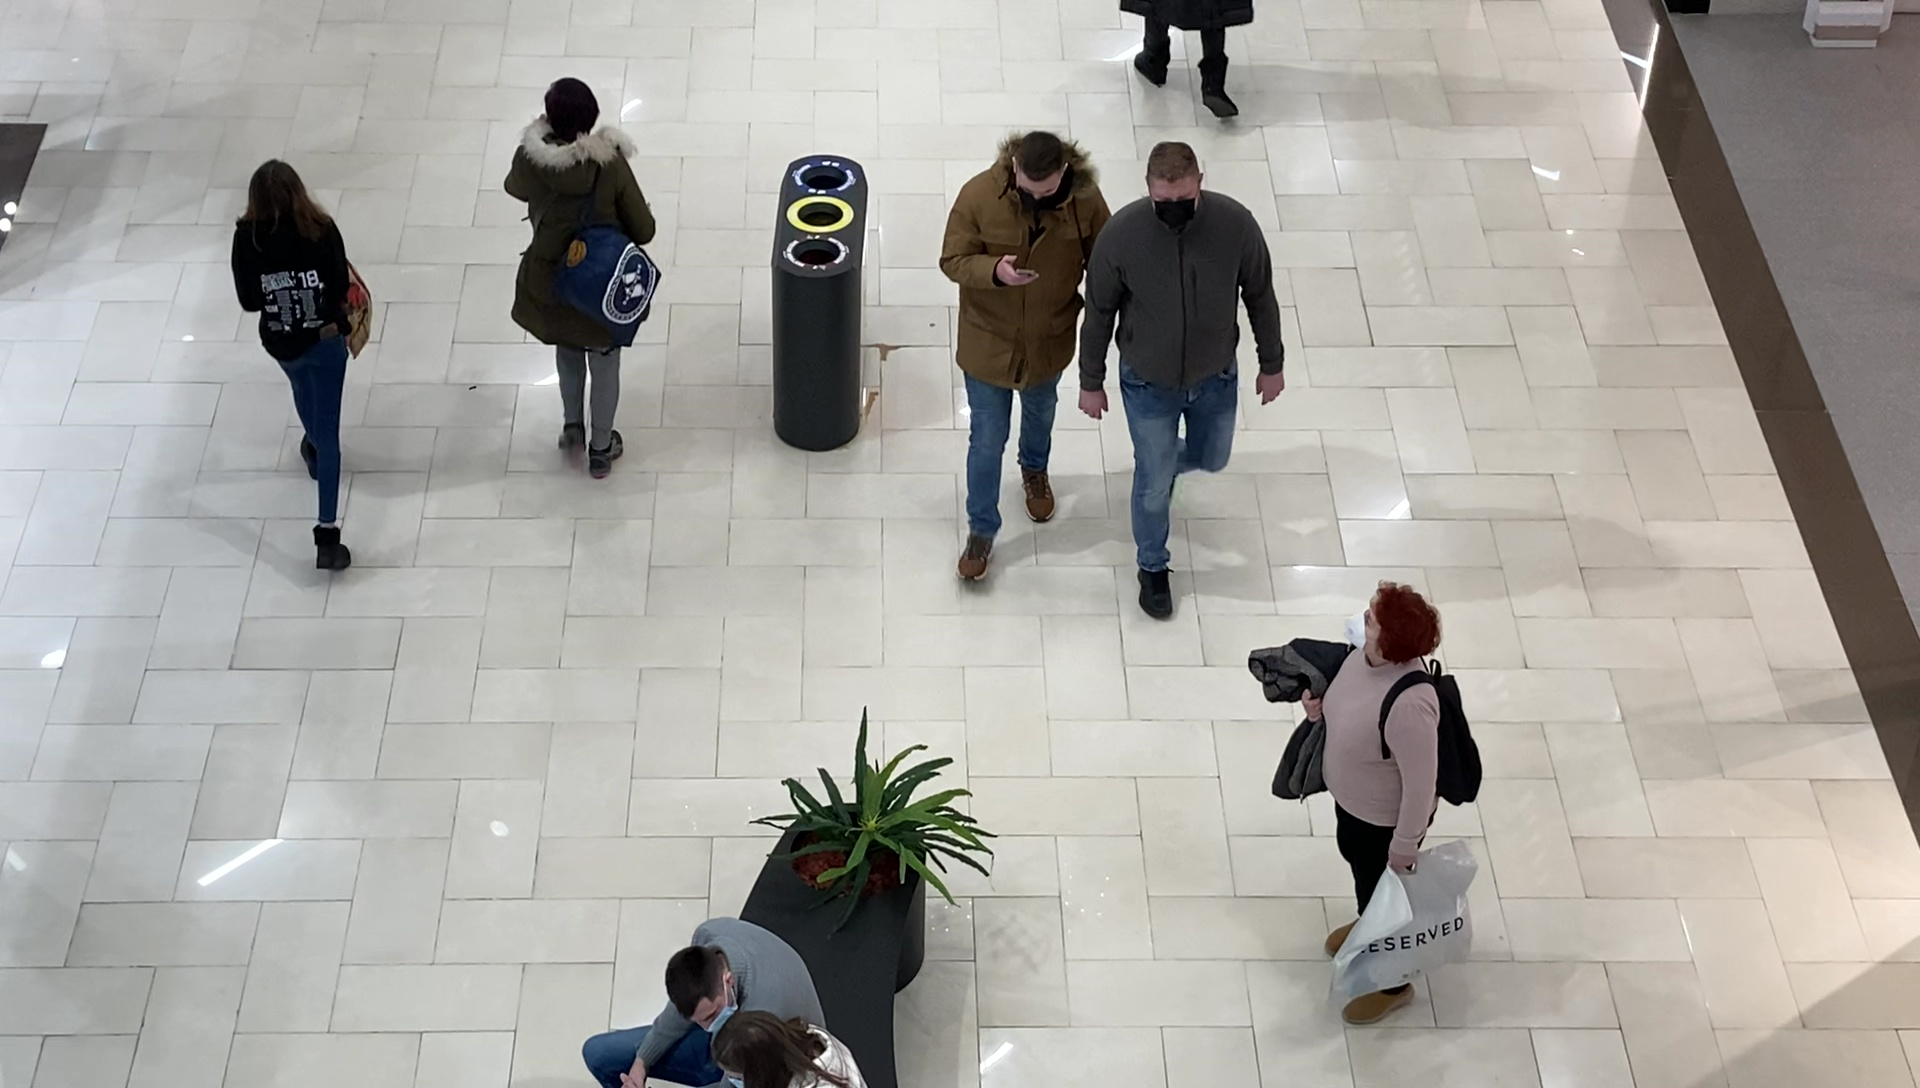person: (1079, 142, 1286, 622), (939, 130, 1111, 589), (1297, 583, 1454, 1026), (502, 78, 661, 477), (232, 161, 376, 577), (1113, 1, 1258, 117)
